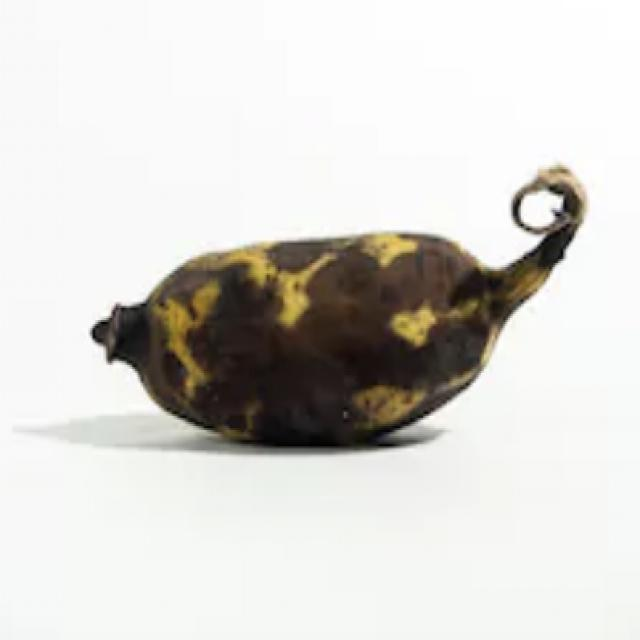rotten-banana: (96, 242, 564, 441)
